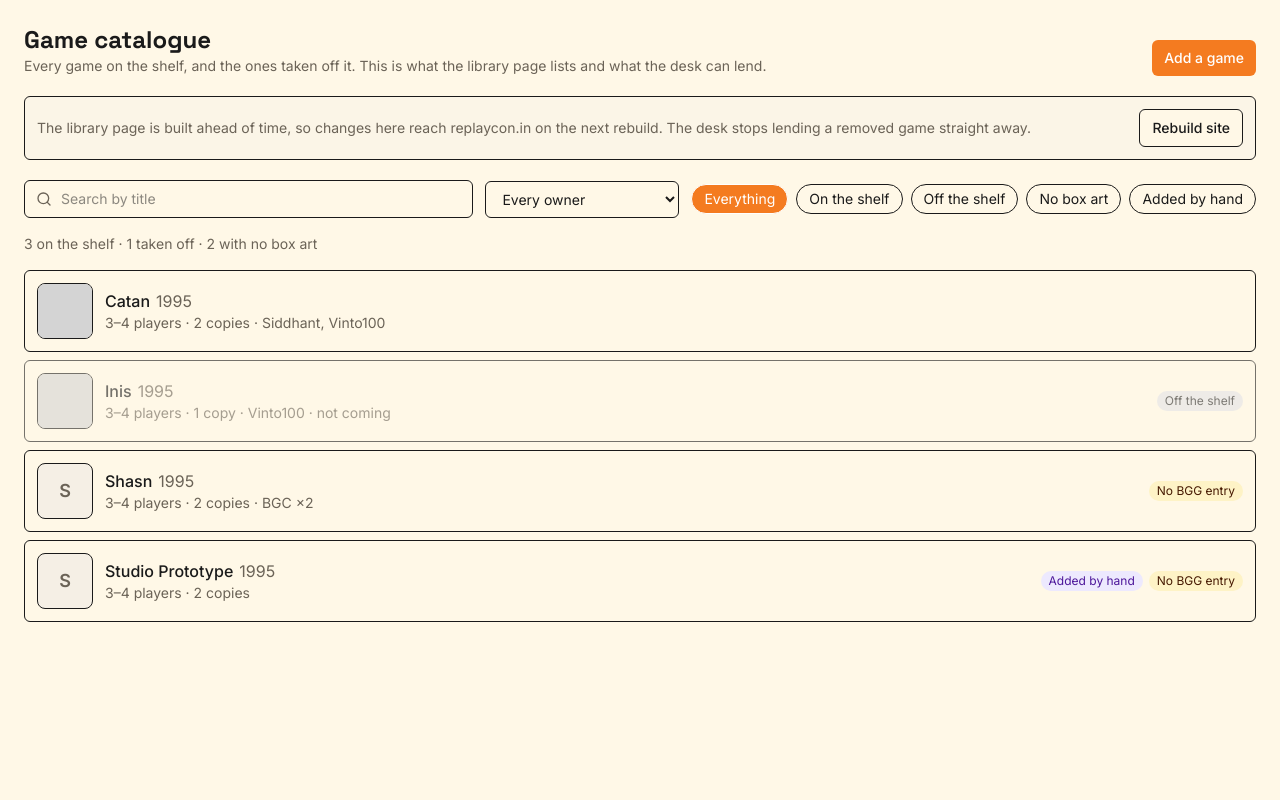
Scenario: the catalogue list › narrows to one owner’s games
Expected: the text "Catan" is shown, [105,291,150,311]
Select "Siddhant (1)" in the dropdown named "Filter by owner": (582, 199) [485,180,679,218]
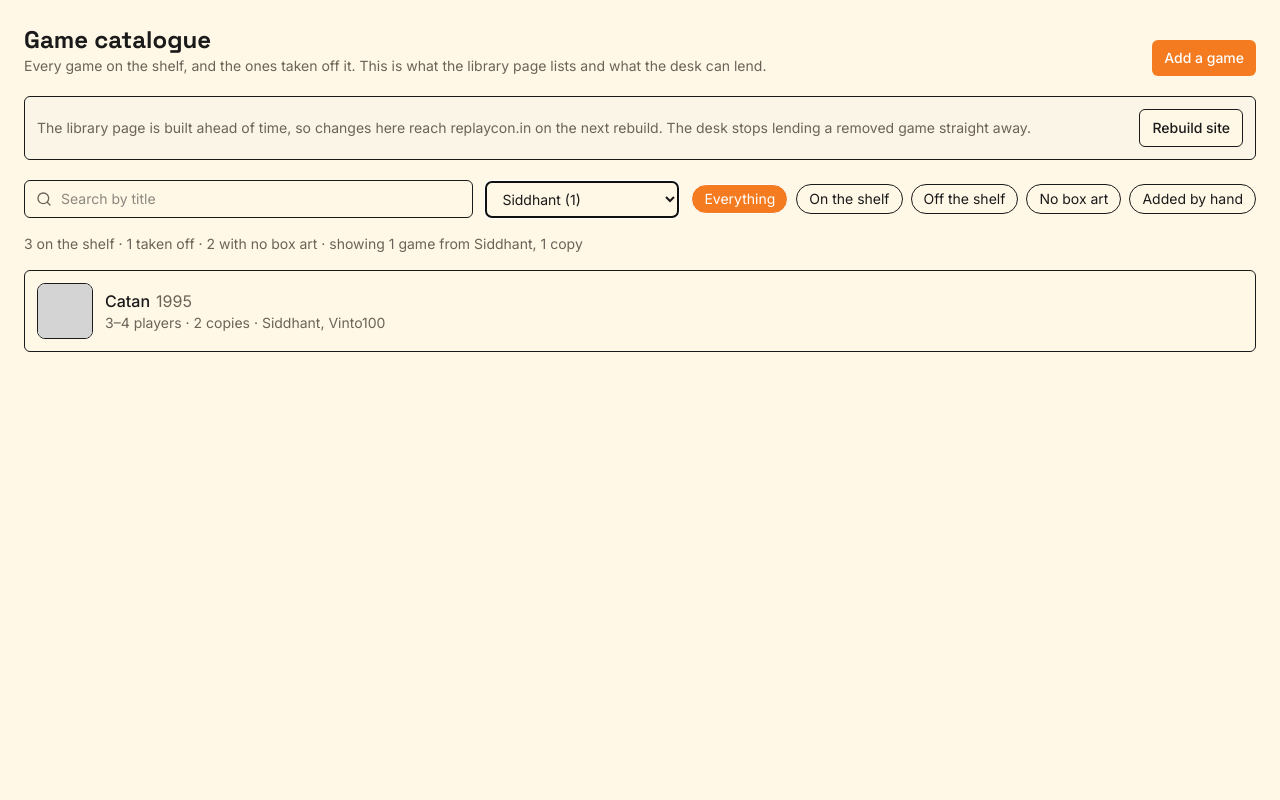
Expected: the text "Catan" is shown, [105,291,150,311]
Expected: the link "Inis" is gone
Expected: the link "Shasn" is gone
